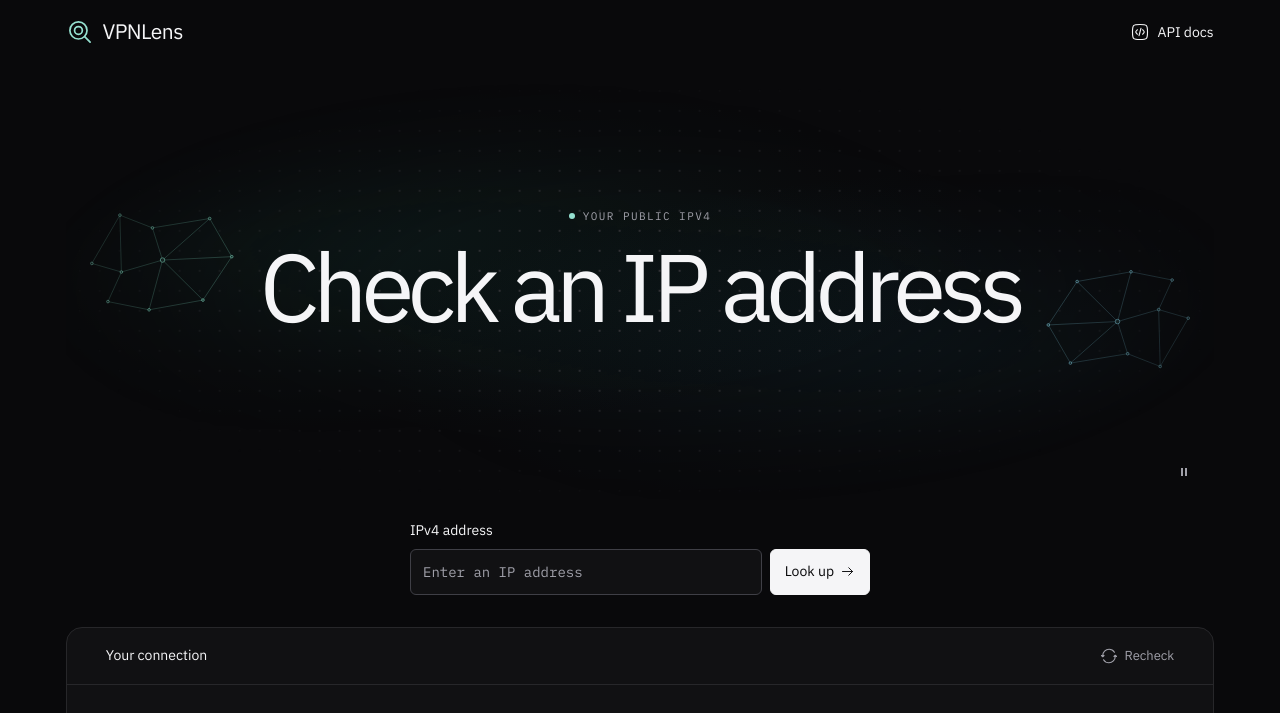
focused live connection screen › keeps manual search available when localhost discovery fails
In the field labelled "IPv4 address": coordinates (586, 572) [410, 549, 762, 595], type "103.108.230.50"
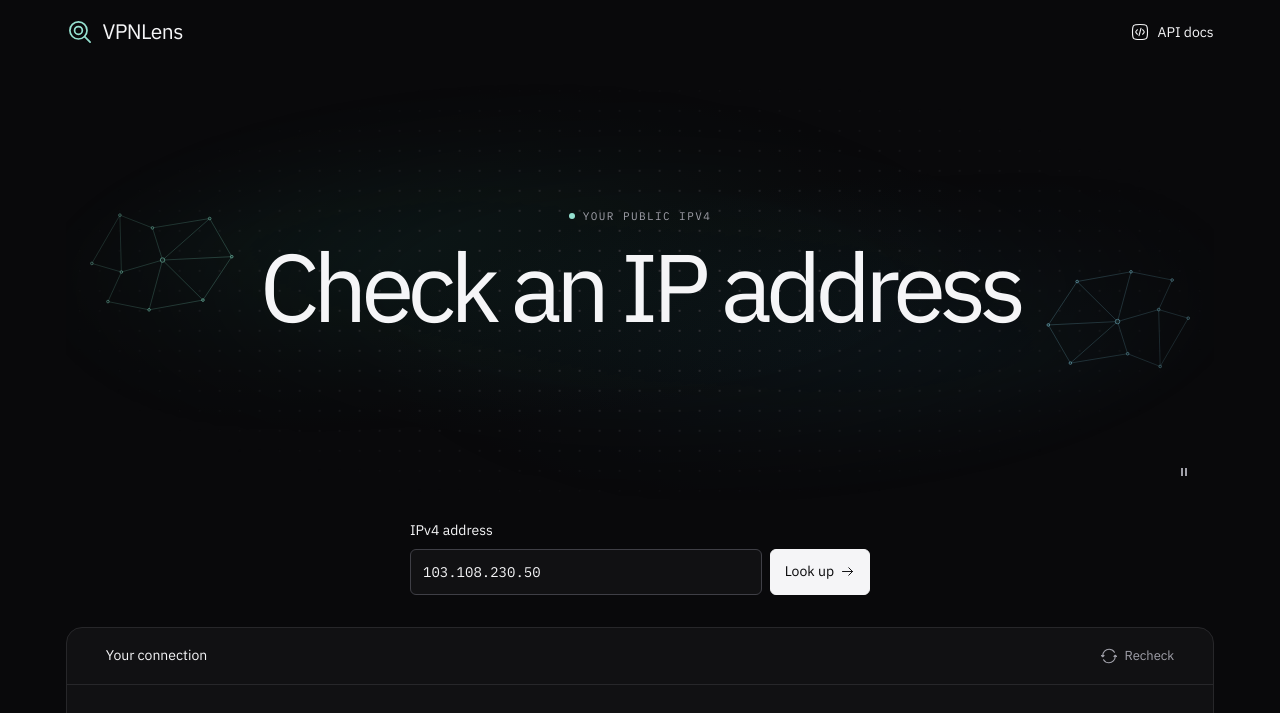
Click the button "Look up": coordinates (820, 572) [770, 549, 870, 595]
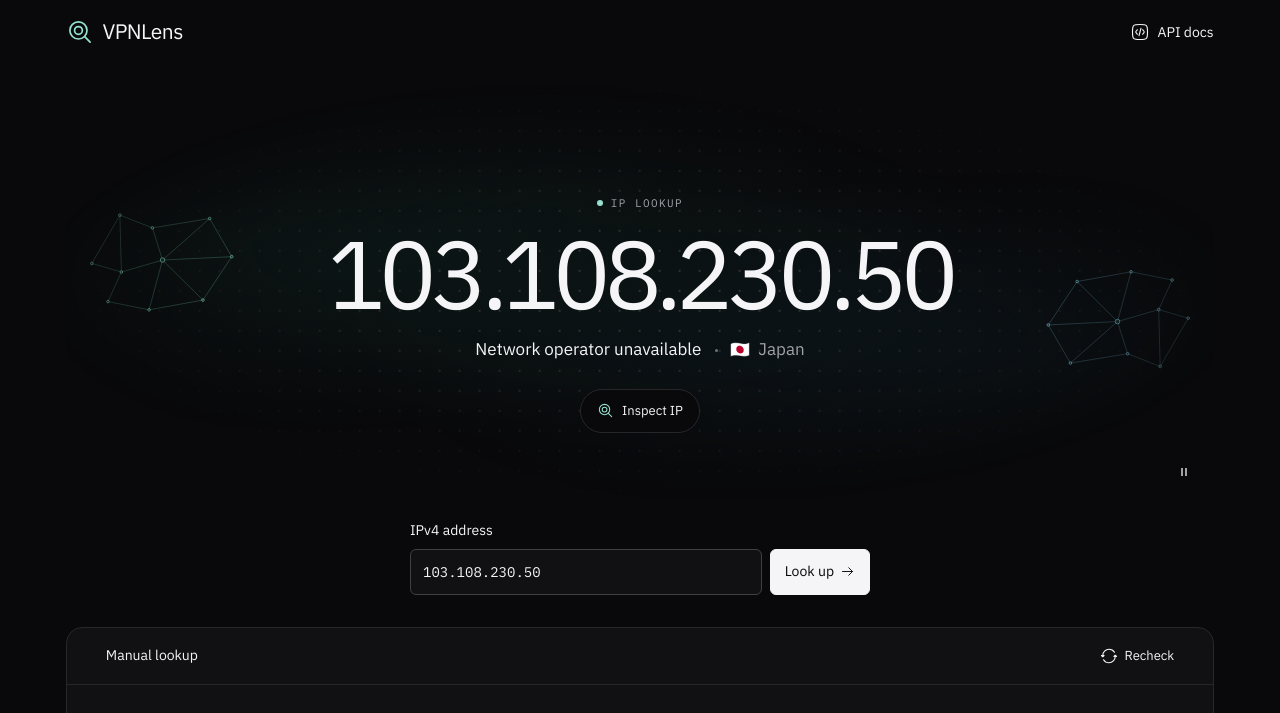
Check: the text "Manual lookup" is shown, box [106, 645, 198, 666]
